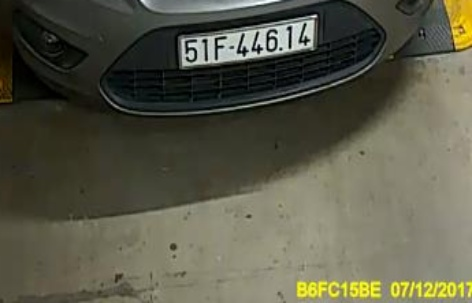plate: (171, 15, 325, 64)
